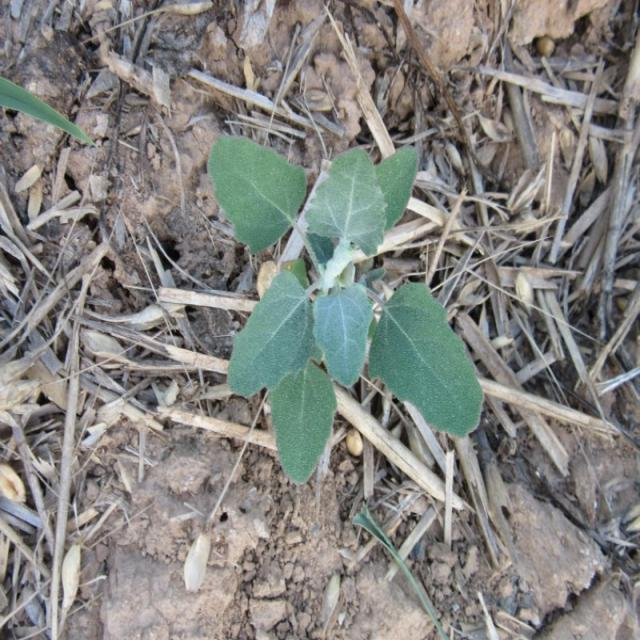ca: (209, 132, 484, 487)
